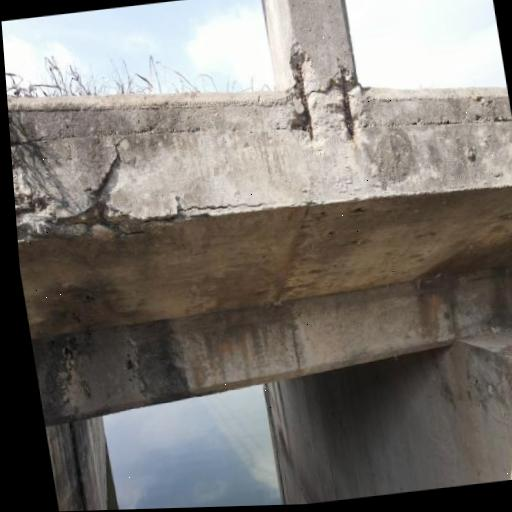exposed_rebar: (294, 62, 313, 140), (336, 64, 354, 137)
